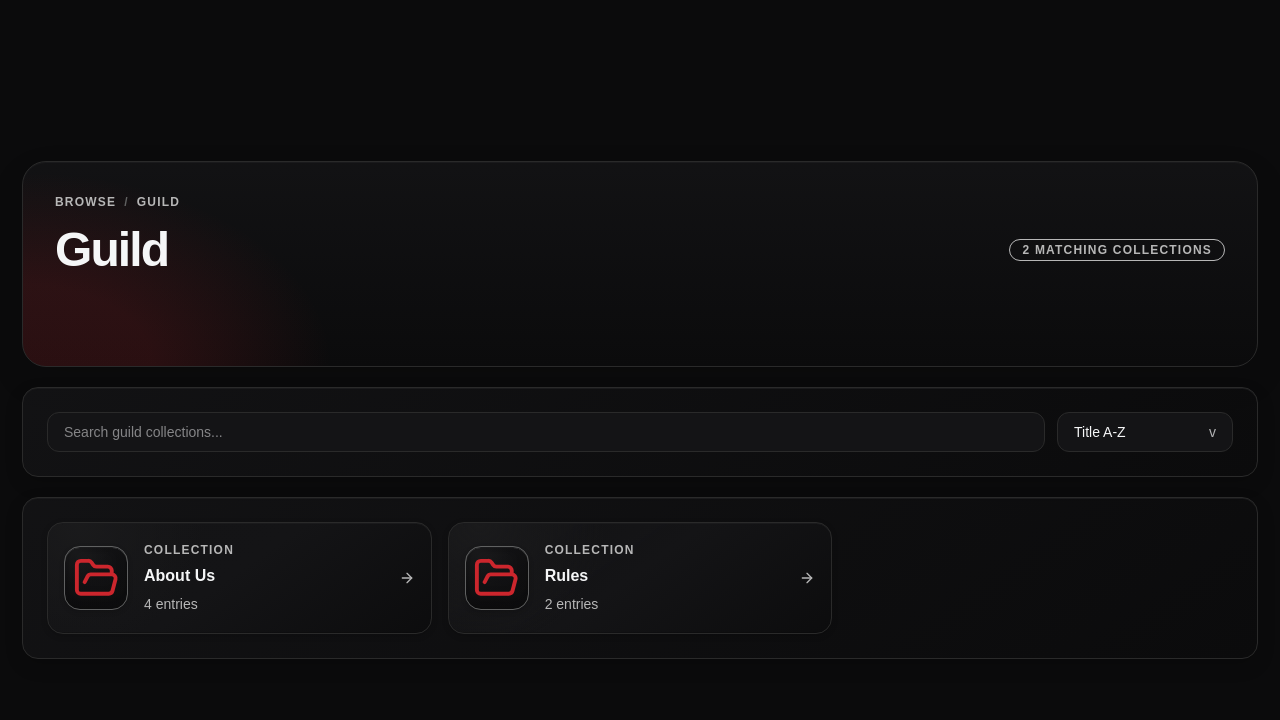
PublicCategoryHub › filters collection cards and updates the header count without empty card shells
Type "rules" into the search field named "Search collections".
click(546, 432); type("rules")  # box x1=47 y1=412 x2=1045 y2=452
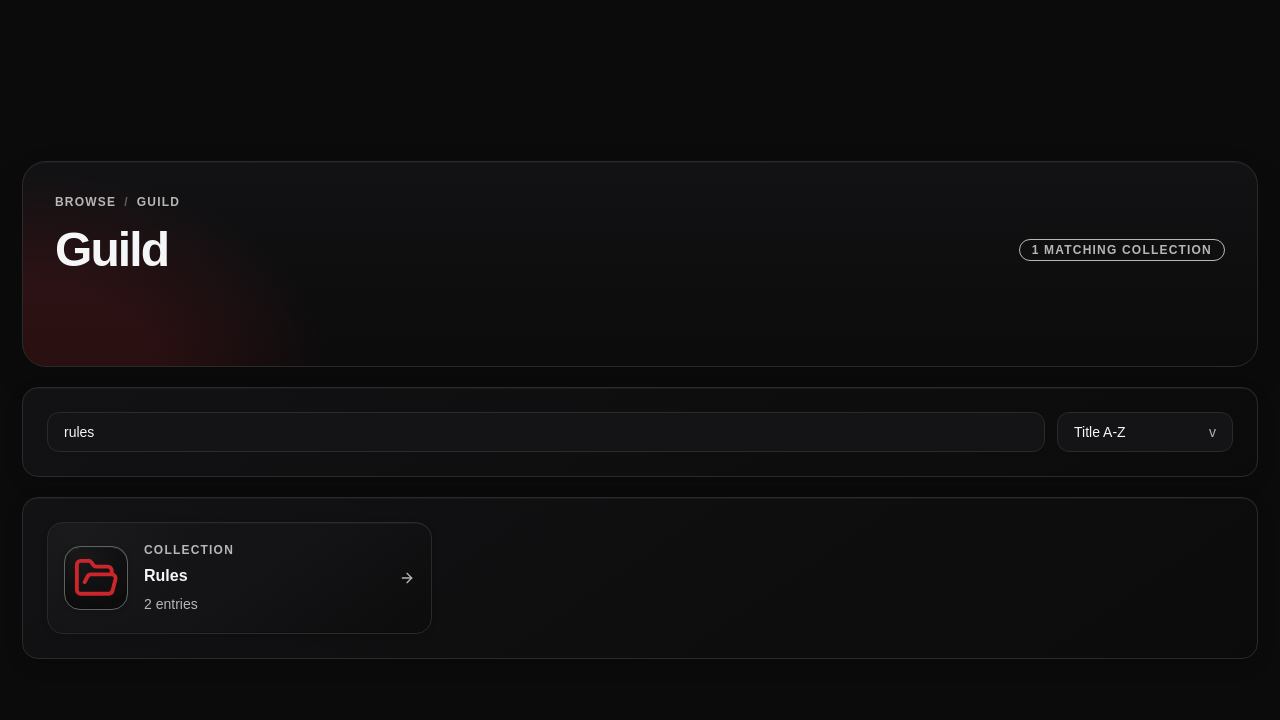
Expected: the link "About Us" is gone
Expected: the text "1 matching collection" is shown, x1=1019 y1=239 x2=1225 y2=261
Expected: the number of links with class "browse-result-card" is 1, x1=47 y1=522 x2=432 y2=634
